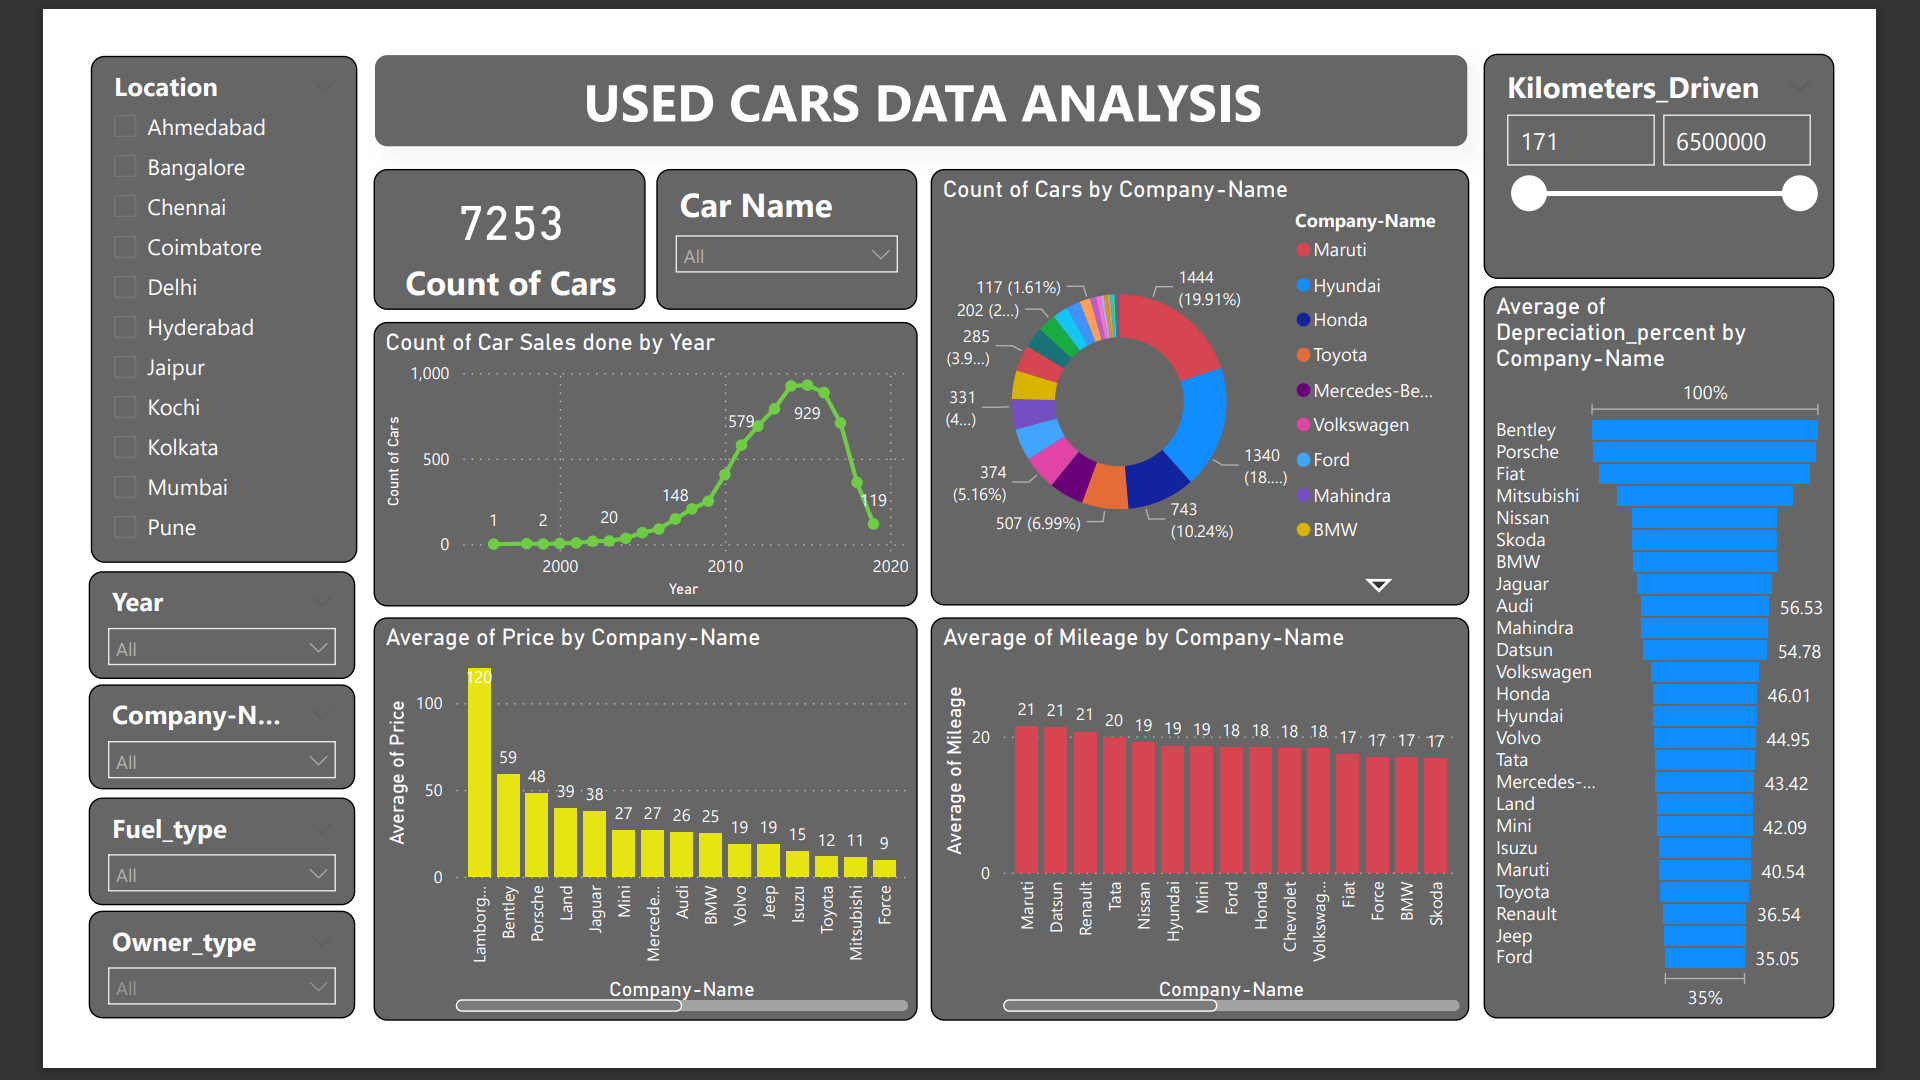

This screenshot's page, from the dashboard's own definition file:
{"tool":"powerbi","page":{"name":"Page 1","canvas":[1280,720],"ordinal":0},"visuals":[{"type":"slicer","fields":{"Values":["used_cars.Location"]},"box":[10,10,193.1,367.3],"z":0},{"type":"slicer","fields":{"Values":["used_cars.Year"]},"box":[9.5,383,193.1,77.6],"z":1000},{"type":"slicer","fields":{"Values":["used_cars.Company-Name"]},"box":[9.5,465,193.1,75.7],"z":2000},{"type":"textbox","box":[215.9,9.5,793.4,68.2],"z":3000},{"type":"columnChart","fields":{"Category":["used_cars.Company-Name"],"Y":["Avg(used_cars.Mileage)"]},"box":[619.2,416.6,390.1,291.6],"z":4000},{"type":"columnChart","fields":{"Category":["used_cars.Company-Name"],"Y":["Avg(used_cars.Price)"]},"box":[215.9,416.6,393.8,291.6],"z":5000},{"type":"card","fields":{"Values":["CountNonNull(used_cars.s.no.)"]},"box":[215.9,92.8,196.9,102.2],"z":6000},{"type":"funnel","fields":{"Category":["used_cars.Company-Name"],"Y":["Avg(used_cars.Depreciation_percent)"]},"box":[1018.7,178,253.7,530.2],"z":7000},{"type":"slicer","fields":{"Values":["used_cars.Owner_type"]},"box":[9.5,630,193.1,77.6],"z":8000},{"type":"donutChart","fields":{"Category":["used_cars.Company-Name"],"Y":["CountNonNull(used_cars.Cars)"]},"box":[619.2,92.8,390.1,316.2],"z":9000},{"type":"slicer","fields":{"Values":["used_cars.Fuel_type"]},"box":[9.5,548,193.1,77.6],"z":10000},{"type":"slicer","fields":{"Values":["used_cars.Kilometers_Driven"]},"box":[1018.7,9.5,253.7,162.8],"z":11000},{"type":"slicer","fields":{"Values":["used_cars.name"]},"box":[420.4,92.8,189.3,102.2],"z":12000},{"type":"lineChart","title":"Count of Car Sales done by Year","fields":{"Category":["used_cars.Year"],"Y":["CountNonNull(used_cars.Cars)"]},"box":[215.9,202.6,393.8,206.4],"z":13000}]}

Visuals, with their boxes in screenshot pixels (x1, y1, x2, y2), scaled from the page's 1280x720 canvas onto the 1920x1080 screenshot:
slicer - used_cars.Location: x1=15 y1=15 x2=305 y2=566
slicer - used_cars.Year: x1=14 y1=574 x2=304 y2=691
slicer - used_cars.Company-Name: x1=14 y1=698 x2=304 y2=811
textbox: x1=324 y1=14 x2=1514 y2=117
columnChart - used_cars.Company-Name x Avg(used_cars.Mileage): x1=929 y1=625 x2=1514 y2=1062
columnChart - used_cars.Company-Name x Avg(used_cars.Price): x1=324 y1=625 x2=915 y2=1062
card - CountNonNull(used_cars.s.no.): x1=324 y1=139 x2=619 y2=292
funnel - used_cars.Company-Name x Avg(used_cars.Depreciation_percent): x1=1528 y1=267 x2=1909 y2=1062
slicer - used_cars.Owner_type: x1=14 y1=945 x2=304 y2=1061
donutChart - used_cars.Company-Name x CountNonNull(used_cars.Cars): x1=929 y1=139 x2=1514 y2=614
slicer - used_cars.Fuel_type: x1=14 y1=822 x2=304 y2=938
slicer - used_cars.Kilometers_Driven: x1=1528 y1=14 x2=1909 y2=258
slicer - used_cars.name: x1=631 y1=139 x2=915 y2=292
"Count of Car Sales done by Year" lineChart: x1=324 y1=304 x2=915 y2=614
